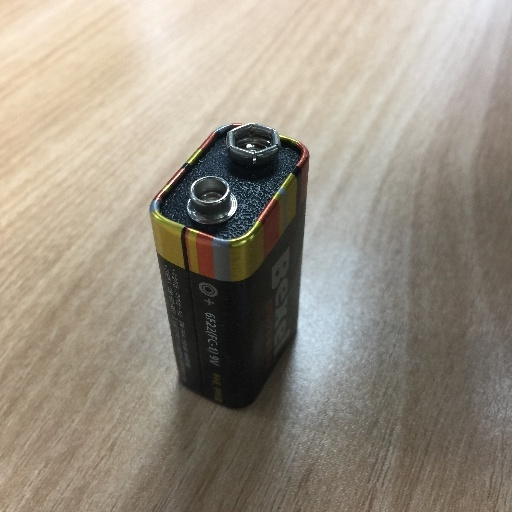Battery_3: (133, 104, 335, 432)
